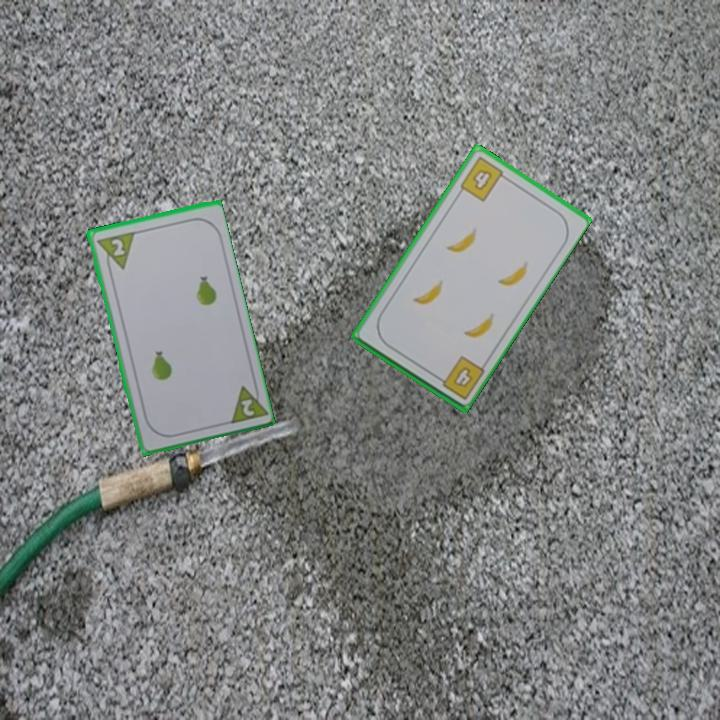2p: (224, 378, 268, 427), (92, 227, 136, 275)
4b: (456, 153, 511, 205), (432, 352, 487, 403)
